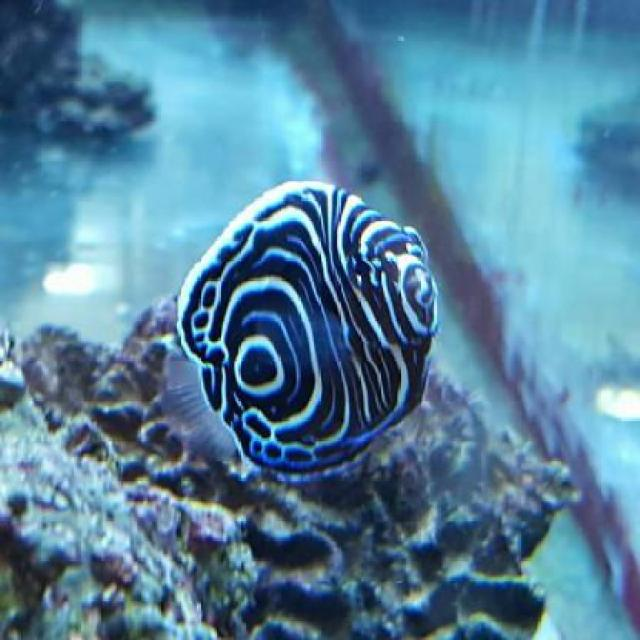AngelFish: (175, 179, 442, 472)
